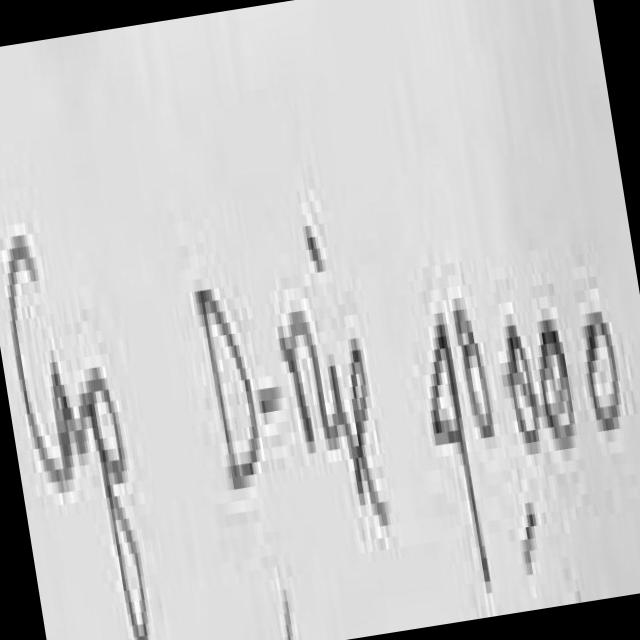0: (457, 309, 495, 438), (543, 320, 576, 449), (589, 311, 622, 431), (511, 325, 541, 443)
4: (433, 324, 493, 594)
C: (9, 235, 67, 493)
D: (199, 289, 260, 484)
a: (53, 362, 86, 474)
e: (352, 338, 390, 526)
i: (303, 310, 332, 454)
p: (88, 367, 141, 640)
r: (280, 299, 316, 453)
s: (329, 369, 362, 482)
